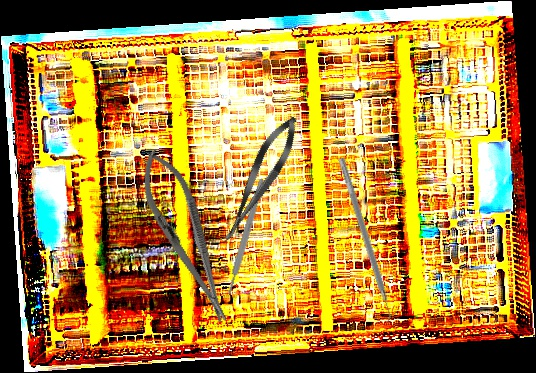Micro Scissor: (211, 110, 307, 251)
Needle Holder: (127, 142, 245, 332)
Scalpel Handle: (225, 178, 266, 295)
Spatula Surgical: (330, 157, 398, 326)
